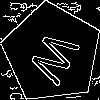W: (27, 28, 89, 92)
